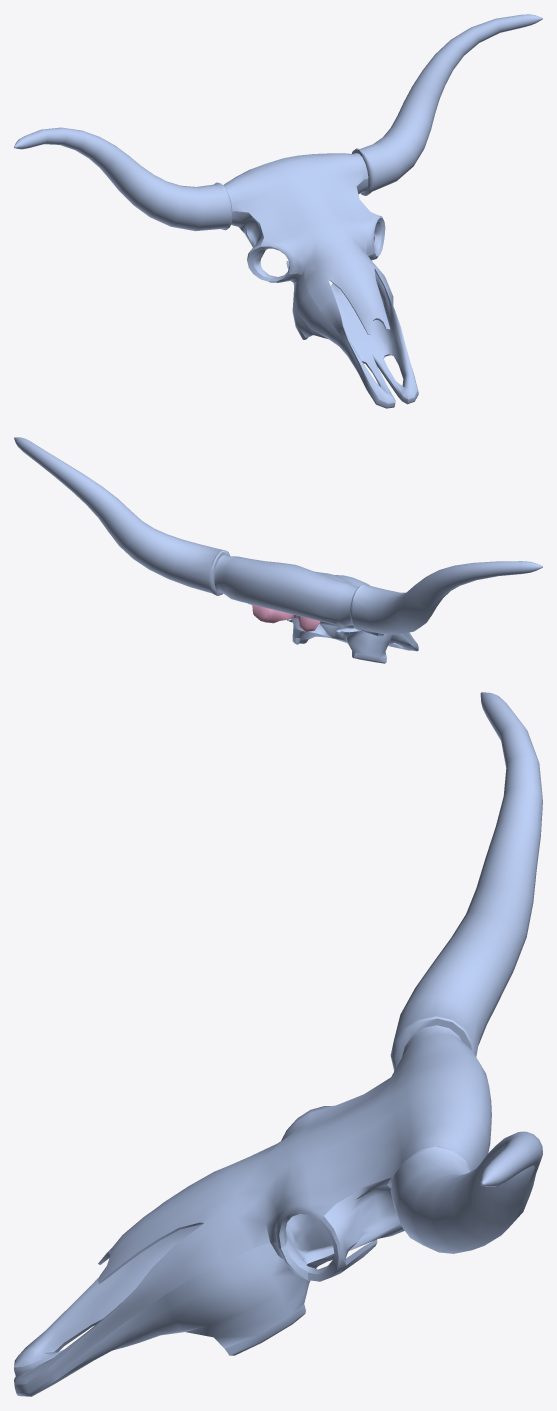
3 renders of one model, top to bottom at view 1: azimuth 30°, elevation 25°; view 2: azimuth 150°, elevation 25°; view 3: azimuth 270°, elevation 25°, orthographic. The views are drawn at different scales.
Visible parts, largest first — view 1: split_parent_0; view 2: split_parent_0, steer skull.001_steer_skull_0.011; view 3: split_parent_0.
Boxes of the visible parts, <box> form: split_parent_0: <box>14,14,542,408</box>; split_parent_0: <box>14,437,542,663</box>; steer skull.001_steer_skull_0.011: <box>252,605,320,631</box>; split_parent_0: <box>14,692,542,1396</box>.
Size of the model in its own units: 1 by 0.43 by 0.4548.
